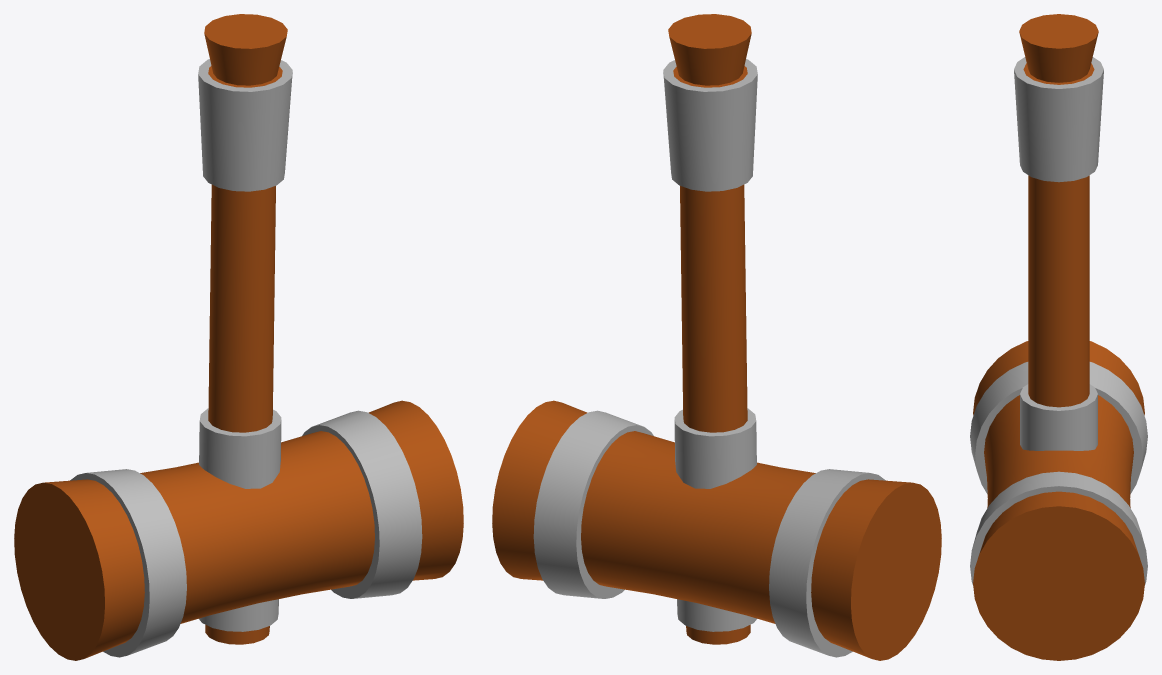
Rendered from hammer.fbx.
3 renders of one model, left to right at view 1: azimuth 30°, elevation 25°; view 2: azimuth 150°, elevation 25°; view 3: azimuth 270°, elevation 25°, orthographic. The views are drawn at different scales.
Visible parts, largest first — view 1: Cylinder, Cylinder.001; view 2: Cylinder, Cylinder.001; view 3: Cylinder, Cylinder.001.
Boxes of the visible parts, <box> form: Cylinder: <box>14,400,463,660</box>; Cylinder.001: <box>198,14,292,644</box>; Cylinder: <box>492,400,941,660</box>; Cylinder.001: <box>663,14,757,644</box>; Cylinder: <box>970,341,1147,660</box>; Cylinder.001: <box>1014,14,1103,450</box>.
Size of what is drawn, in the model's own units: 458 by 726 by 207.
